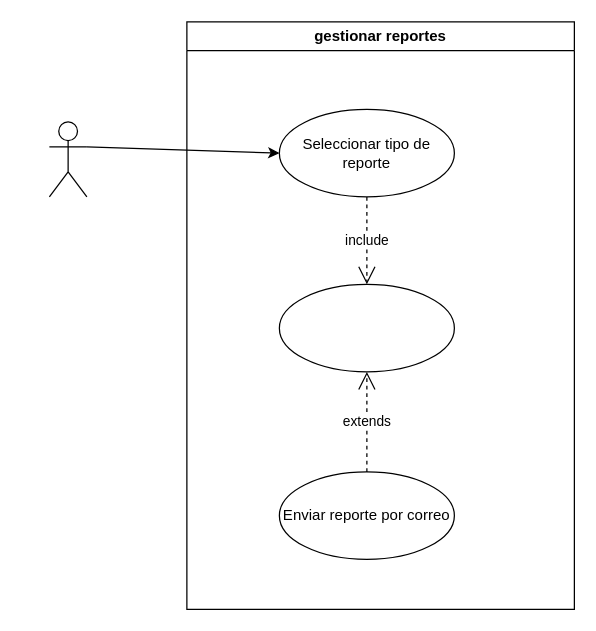
Some shapes in this 596 by 631 pixel diagram are drawn without their labels. The centre of each missing label's shape, as x and y in pixels:
Administrador: pixel 67 159
Exportar a PDF: pixel 366 327
